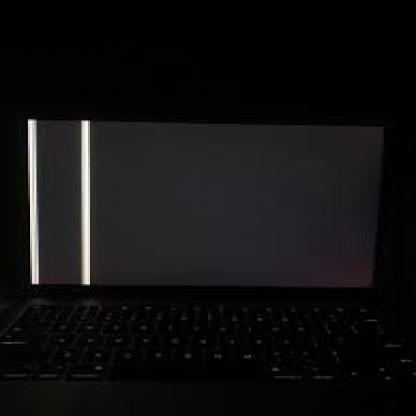lines: (19, 119, 105, 287)
